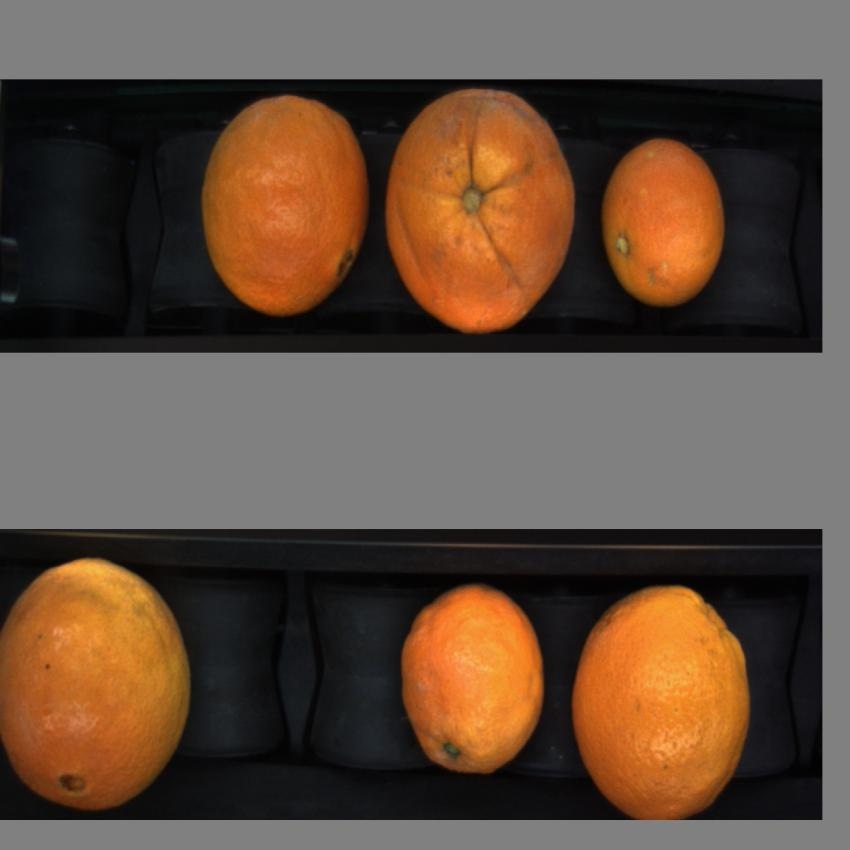Buen estado: (2, 559, 209, 814), (572, 582, 755, 816), (399, 584, 546, 775), (602, 132, 730, 312)
Mal estado: (382, 90, 582, 342), (198, 93, 373, 319)
